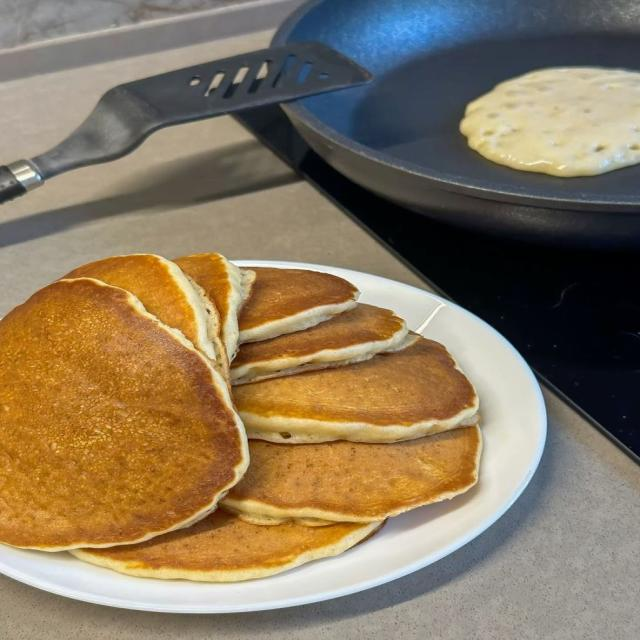pancake: (0, 279, 248, 550), (221, 426, 481, 525), (234, 338, 478, 443), (72, 510, 382, 581), (460, 67, 639, 176), (65, 254, 227, 371), (231, 304, 406, 384), (239, 268, 359, 343), (175, 254, 255, 362)
